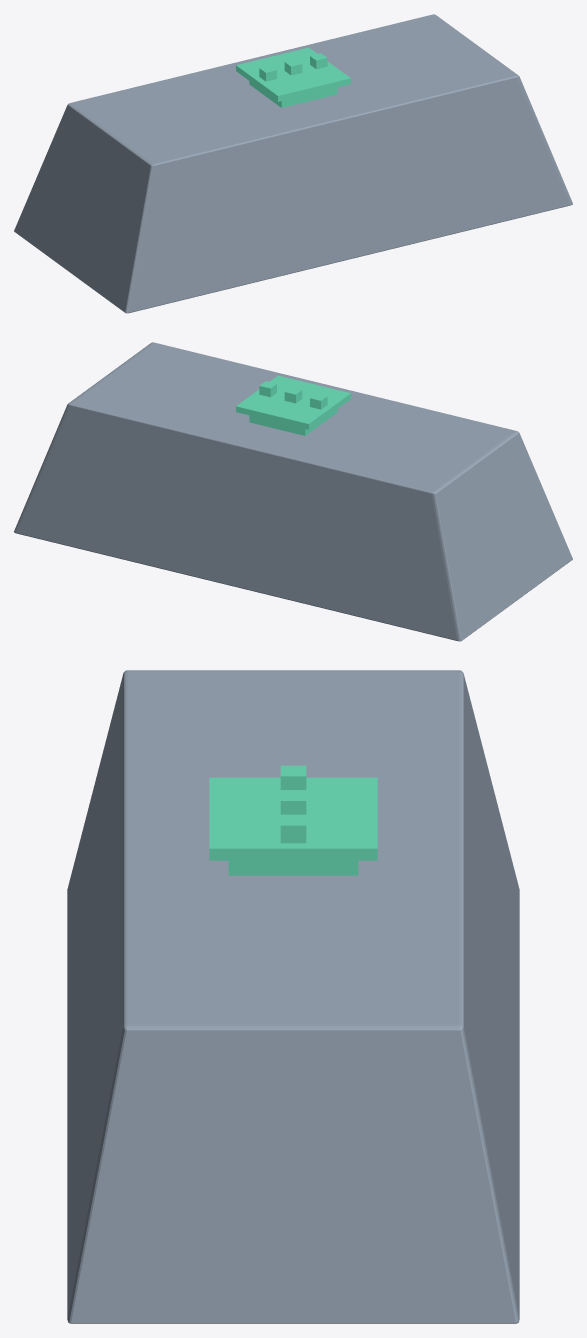
The model's file is wachtstahl.glb.
3 renders of one model, top to bottom at view 1: azimuth 30°, elevation 25°; view 2: azimuth 150°, elevation 25°; view 3: azimuth 270°, elevation 25°, orthographic. The views are drawn at different scales.
Visible parts, largest first — view 1: Cube; view 2: Cube; view 3: Cube.
Part boxes in pixels (left/top/right/bottom): Cube: left=14, top=14, right=572, bottom=313; Cube: left=14, top=342, right=572, bottom=641; Cube: left=67, top=670, right=519, bottom=1323.
Bounding box in the file's own units: 0.1598 × 0.053 × 0.0699.
